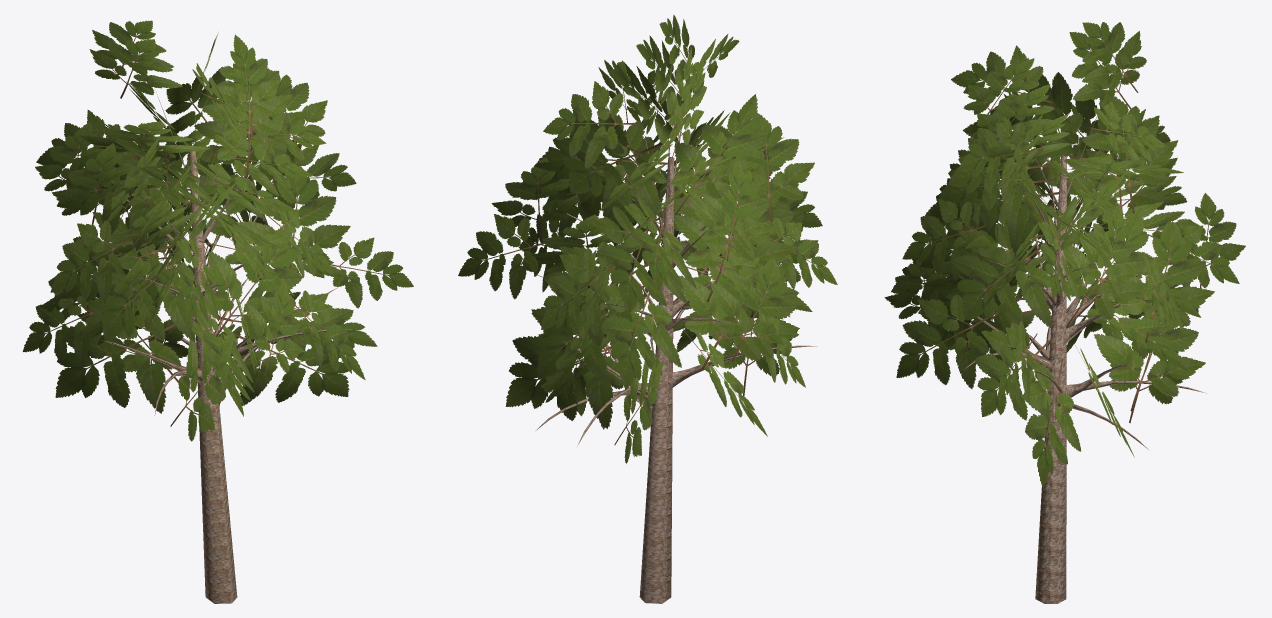
The model's file is Tree01.fbx.
The picture shows the model from 3 angles, left to right: view 1: azimuth 30°, elevation 25°; view 2: azimuth 150°, elevation 25°; view 3: azimuth 270°, elevation 25°; orthographic projection. The views are drawn at different scales.
Parts seen in each view (by area): view 1: tree; view 2: tree; view 3: tree.
Boxes of the visible parts, box(x1,y1,x2,y2) form: tree: box(22, 20, 413, 603); tree: box(458, 15, 837, 603); tree: box(884, 22, 1245, 603).
Bounding box in the file's own units: 6085 × 9607 × 6011.
